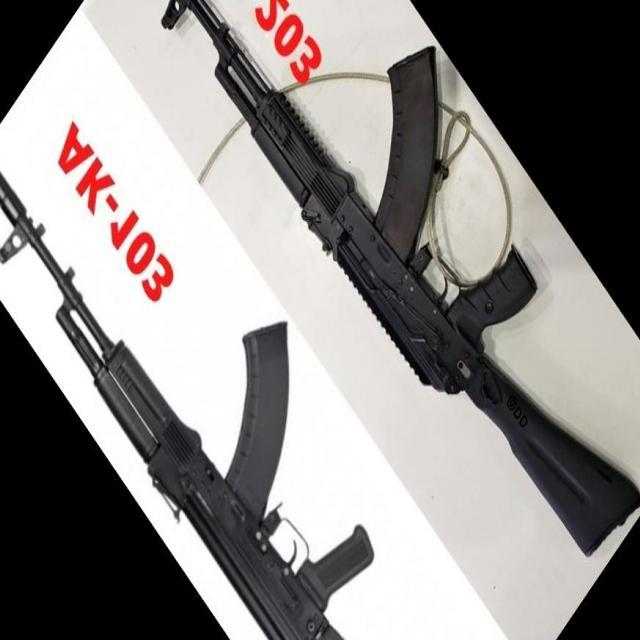weapon: (160, 0, 640, 558), (0, 173, 376, 640)
